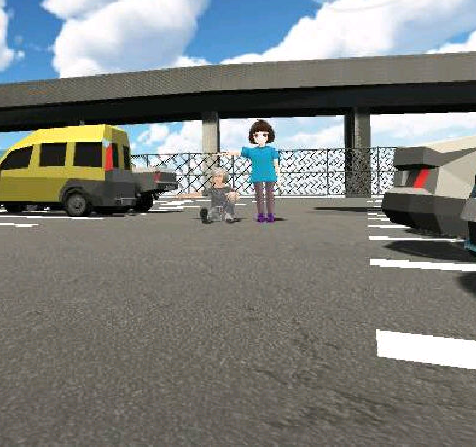doubleP_left: (170, 118, 282, 225)
